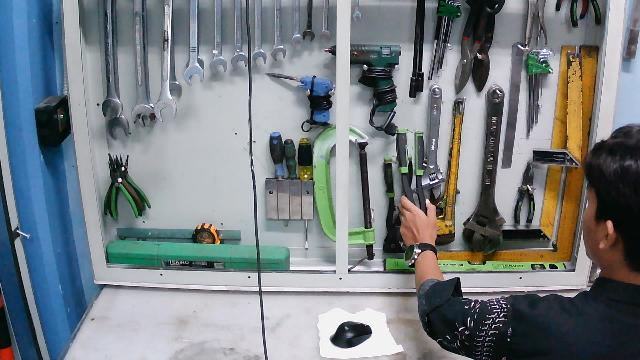tang_rivet: (393, 129, 431, 239)
